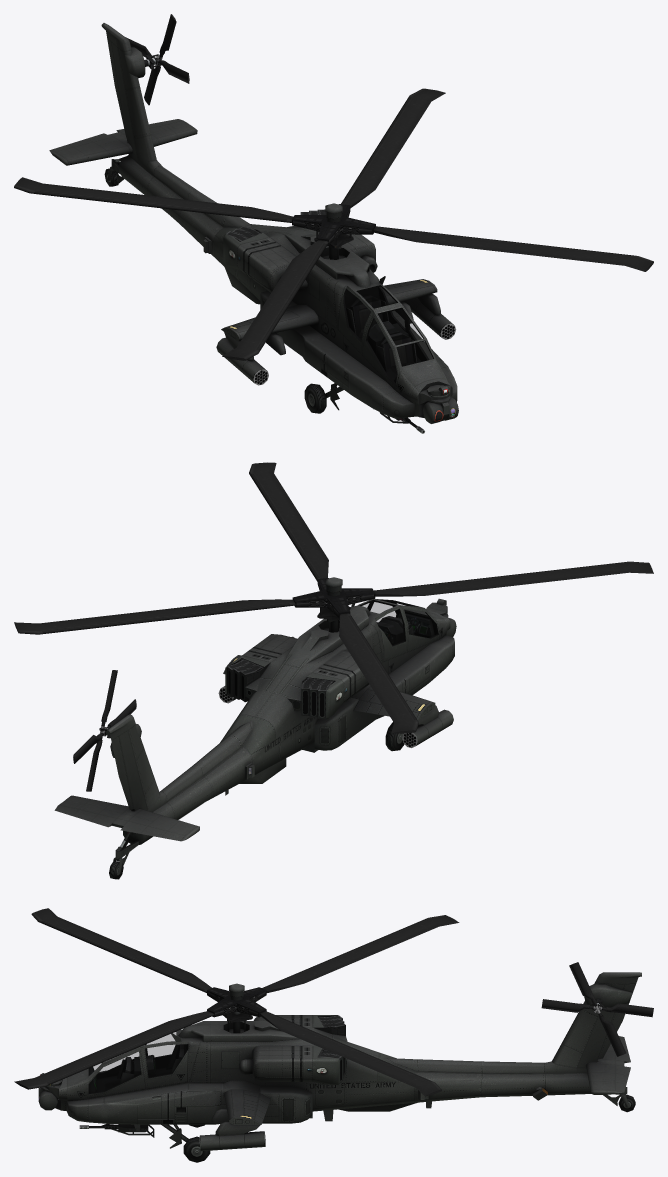
File: ah-64_apache.glb
3 renders of one model, top to bottom at view 1: azimuth 30°, elevation 25°; view 2: azimuth 150°, elevation 25°; view 3: azimuth 270°, elevation 25°, orthographic. The views are drawn at different scales.
Parts seen in each view (by area): view 1: hull, main_rotor, cockpit, glass, tail_rotor; view 2: hull, main_rotor, cockpit, glass, tail_rotor; view 3: hull, main_rotor, glass, cockpit, tail_rotor.
Boxes of the visible parts, x1,y1,x2,y2 form: hull: [49, 23, 458, 433]; main_rotor: [14, 88, 653, 360]; cockpit: [343, 285, 433, 384]; glass: [344, 286, 433, 383]; tail_rotor: [125, 14, 189, 105]; hull: [54, 577, 456, 879]; main_rotor: [14, 462, 653, 733]; cockpit: [359, 599, 438, 645]; glass: [361, 600, 437, 644]; tail_rotor: [73, 670, 136, 791]; hull: [38, 972, 641, 1162]; main_rotor: [14, 908, 459, 1096]; glass: [89, 1032, 187, 1093]; cockpit: [88, 1031, 188, 1093]; tail_rotor: [541, 962, 653, 1056].
Size of the model in its own units: 11.18 by 5.43 by 16.06.
2 materials, 1 textured.
